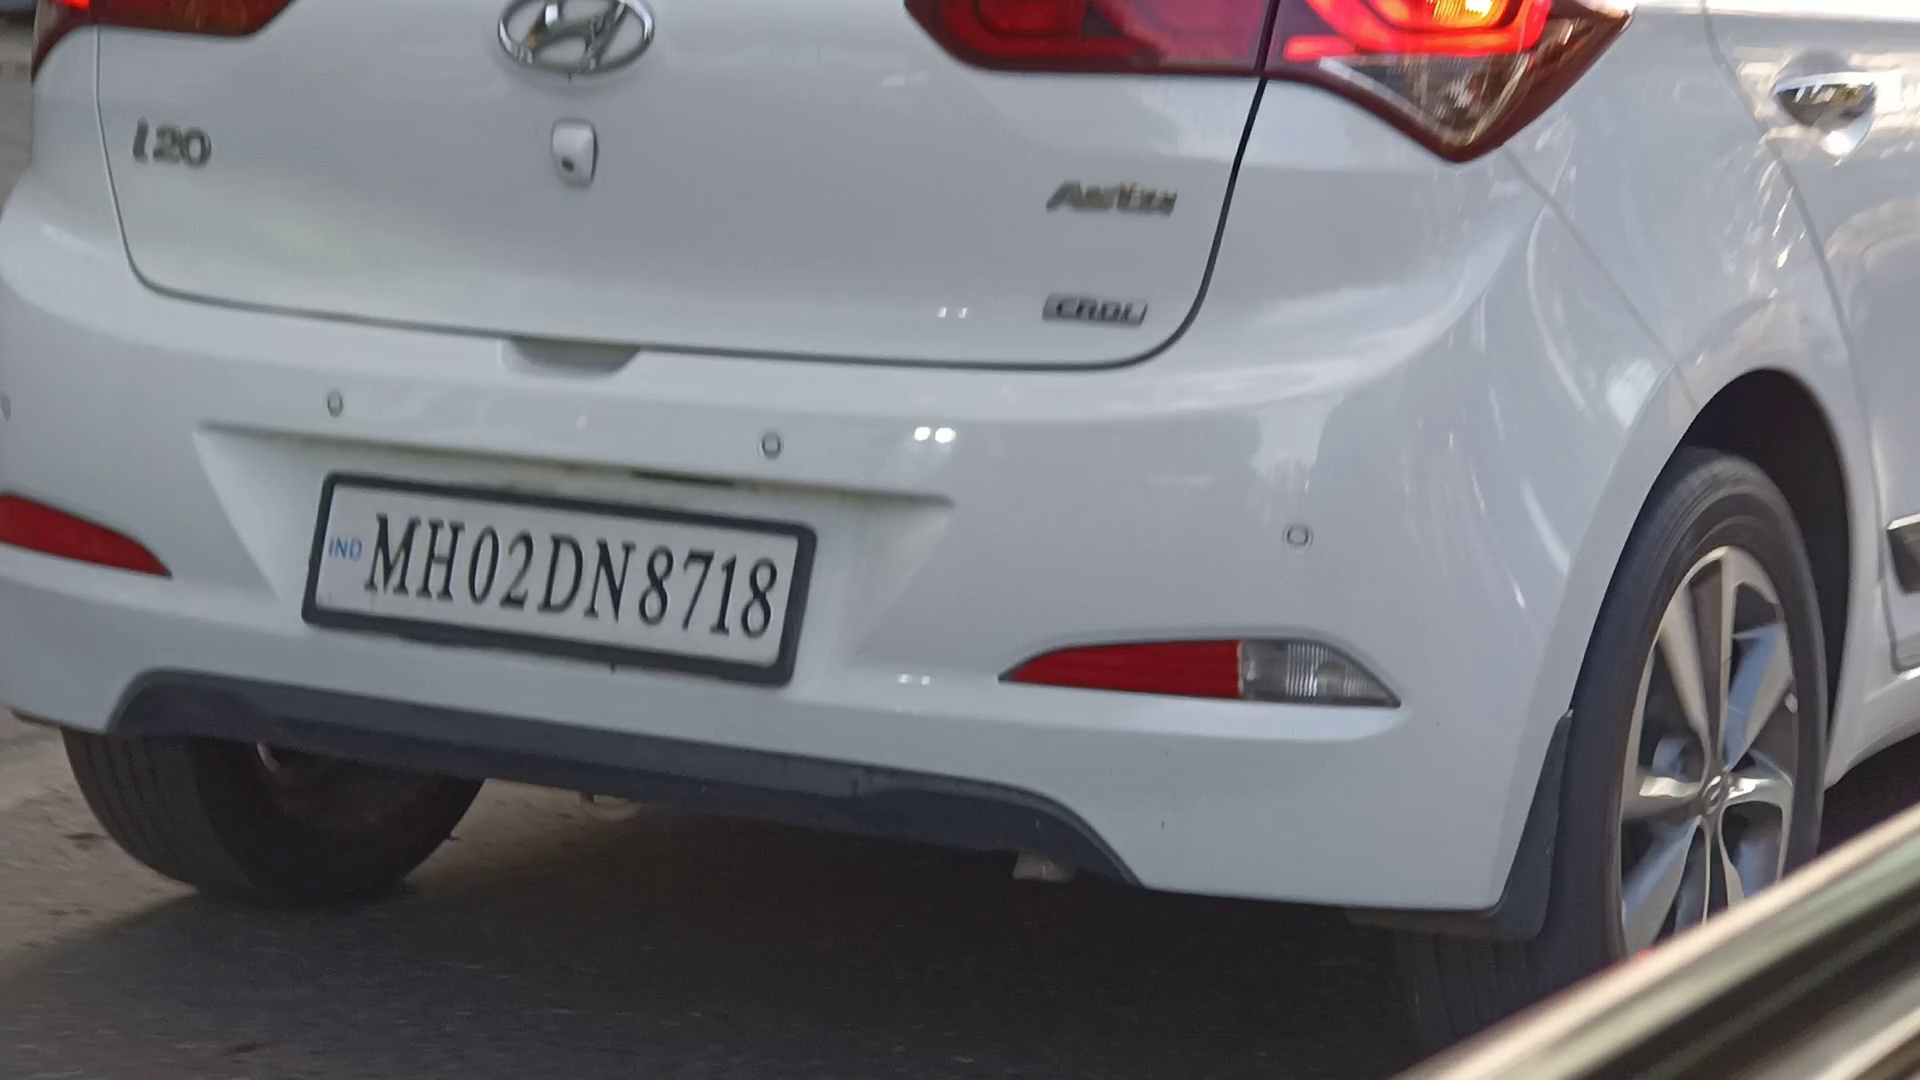MH02DN8718: (314, 479, 800, 670)
